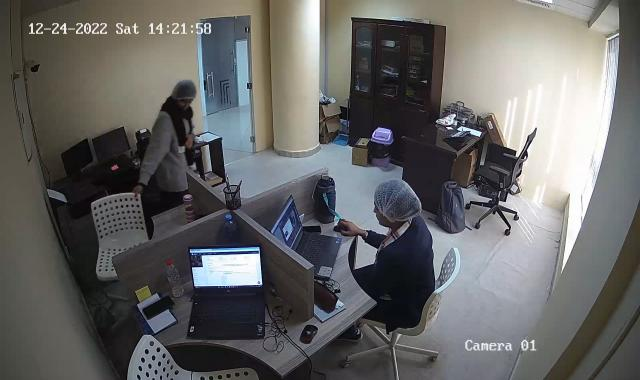hairnet: (374, 178, 422, 232), (172, 77, 198, 113)
